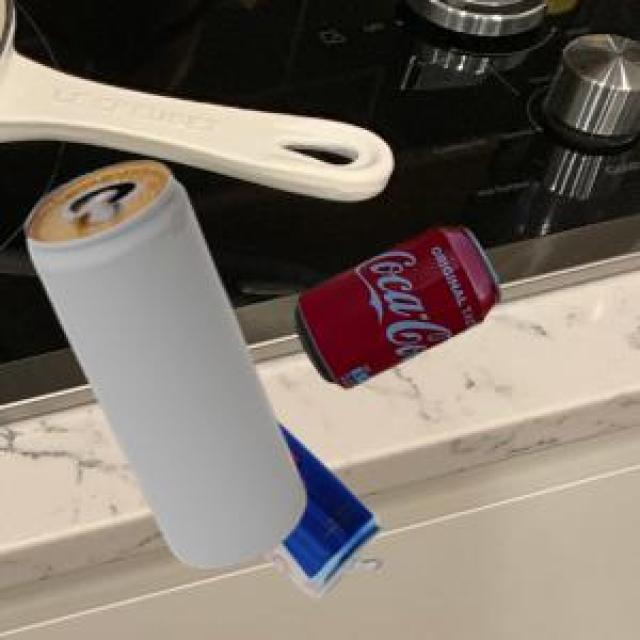logam: (22, 157, 304, 566), (293, 225, 498, 385), (261, 419, 381, 594)
